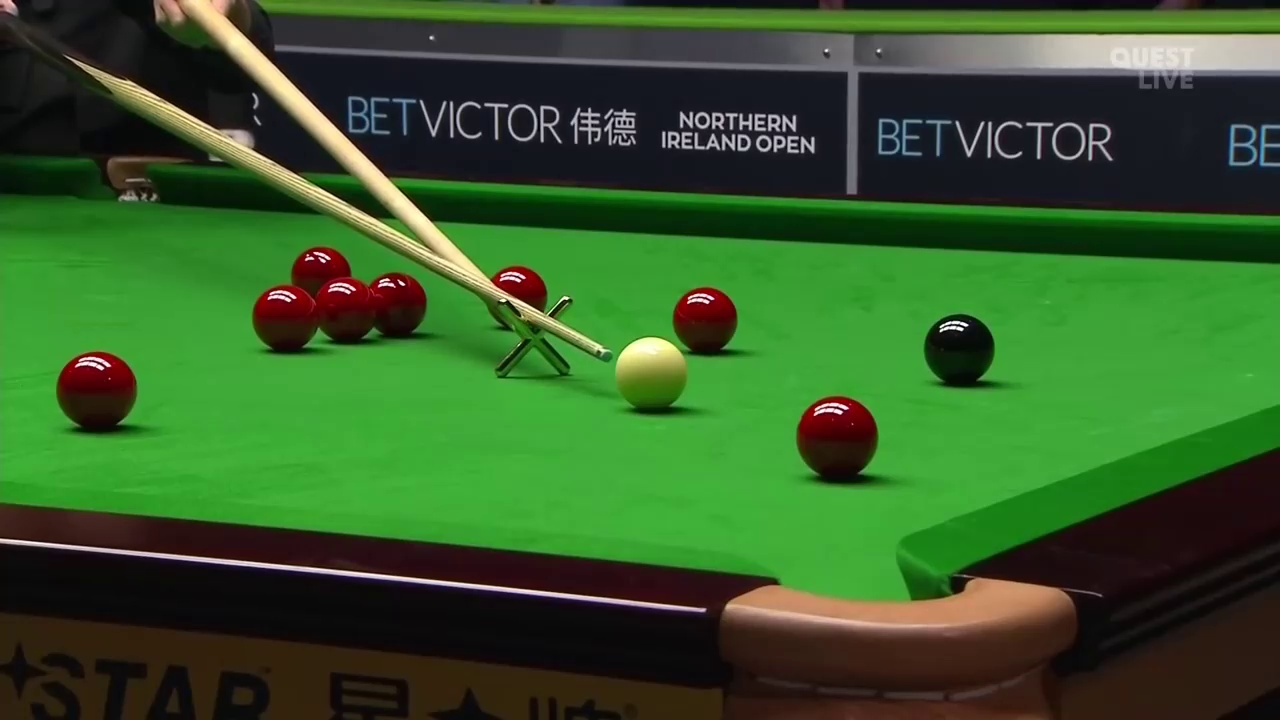black: (921, 314, 994, 385)
red: (795, 397, 879, 477), (57, 352, 137, 431), (251, 283, 318, 353), (674, 286, 738, 346), (318, 276, 373, 345), (372, 274, 427, 340)
white: (614, 338, 686, 405)
